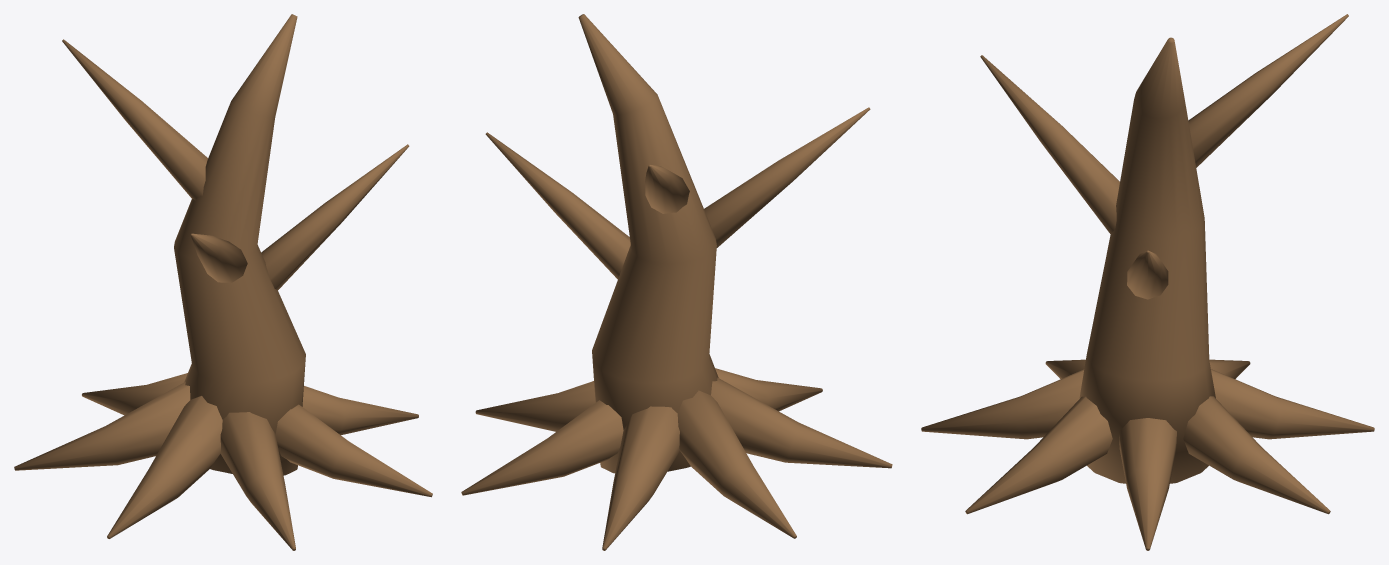
Rendered from AncientSnag.fbx.
3 renders of one model, left to right at view 1: azimuth 30°, elevation 25°; view 2: azimuth 150°, elevation 25°; view 3: azimuth 270°, elevation 25°, orthographic. The views are drawn at different scales.
Parts seen in each view (by area): view 1: AncientSnag_Wood; view 2: AncientSnag_Wood; view 3: AncientSnag_Wood.
Part boxes in pixels (x1,y1,x2,y2): AncientSnag_Wood: (14, 14, 432, 550); AncientSnag_Wood: (461, 14, 892, 550); AncientSnag_Wood: (921, 14, 1374, 550).
Size of the model in its own units: 381 by 434 by 391.
